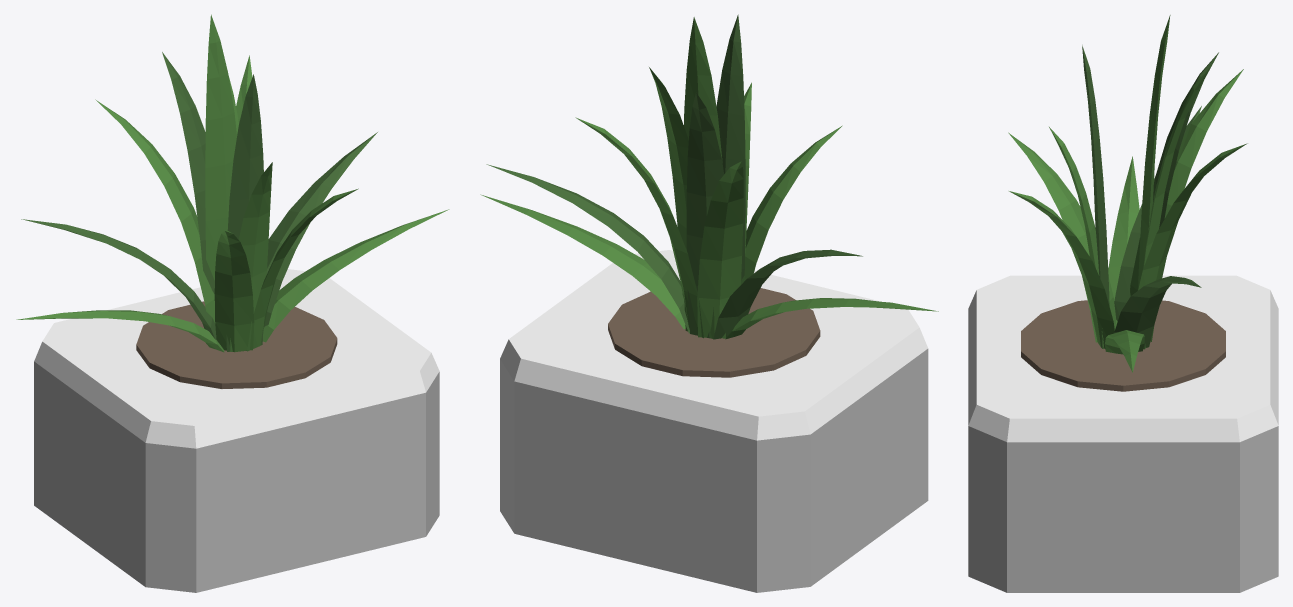
File: vge_faux_plant_a.obj
3 views of the same model, side by side, from view 1: azimuth 30°, elevation 25°; view 2: azimuth 150°, elevation 25°; view 3: azimuth 270°, elevation 25° (orthographic). The views are drawn at different scales.
Parts seen in each view (by area): view 1: vge_faux_plant_a_0, vge_faux_plant_a_1, vge_faux_plant_a_2, vge_faux_plant_a_3, vge_faux_plant_a_13, vge_faux_plant_a_4, vge_faux_plant_a_11, vge_faux_plant_a_8, vge_faux_plant_a_6, vge_faux_plant_a_9, vge_faux_plant_a_15, vge_faux_plant_a_10 (+2 smaller); view 2: vge_faux_plant_a_0, vge_faux_plant_a_1, vge_faux_plant_a_2, vge_faux_plant_a_8, vge_faux_plant_a_6, vge_faux_plant_a_4, vge_faux_plant_a_9, vge_faux_plant_a_11, vge_faux_plant_a_13, vge_faux_plant_a_7, vge_faux_plant_a_5, vge_faux_plant_a_3 (+3 smaller); view 3: vge_faux_plant_a_0, vge_faux_plant_a_1, vge_faux_plant_a_2, vge_faux_plant_a_8, vge_faux_plant_a_14, vge_faux_plant_a_4, vge_faux_plant_a_3, vge_faux_plant_a_13, vge_faux_plant_a_7, vge_faux_plant_a_9, vge_faux_plant_a_12, vge_faux_plant_a_5 (+4 smaller).
Boxes of the visible parts, left/top/right/bottom form: vge_faux_plant_a_0: left=34, top=361, right=439, bottom=592; vge_faux_plant_a_1: left=34, top=269, right=439, bottom=448; vge_faux_plant_a_2: left=136, top=301, right=337, bottom=388; vge_faux_plant_a_3: left=205, top=14, right=236, bottom=280; vge_faux_plant_a_13: left=214, top=230, right=254, bottom=352; vge_faux_plant_a_4: left=226, top=74, right=263, bottom=351; vge_faux_plant_a_11: left=263, top=209, right=449, bottom=342; vge_faux_plant_a_8: left=95, top=99, right=215, bottom=323; vge_faux_plant_a_6: left=162, top=52, right=214, bottom=293; vge_faux_plant_a_9: left=264, top=132, right=377, bottom=326; vge_faux_plant_a_15: left=230, top=162, right=272, bottom=351; vge_faux_plant_a_10: left=21, top=219, right=216, bottom=339; vge_faux_plant_a_0: left=500, top=349, right=928, bottom=592; vge_faux_plant_a_1: left=500, top=250, right=928, bottom=440; vge_faux_plant_a_2: left=608, top=288, right=820, bottom=377; vge_faux_plant_a_8: left=697, top=161, right=743, bottom=337; vge_faux_plant_a_6: left=686, top=92, right=723, bottom=338; vge_faux_plant_a_4: left=716, top=14, right=745, bottom=280; vge_faux_plant_a_9: left=486, top=164, right=689, bottom=333; vge_faux_plant_a_11: left=480, top=194, right=685, bottom=328; vge_faux_plant_a_13: left=741, top=125, right=842, bottom=284; vge_faux_plant_a_7: left=575, top=117, right=703, bottom=338; vge_faux_plant_a_5: left=649, top=67, right=714, bottom=338; vge_faux_plant_a_3: left=683, top=17, right=725, bottom=338; vge_faux_plant_a_0: left=968, top=426, right=1278, bottom=592; vge_faux_plant_a_1: left=968, top=275, right=1278, bottom=442; vge_faux_plant_a_2: left=1021, top=300, right=1225, bottom=391; vge_faux_plant_a_8: left=1130, top=69, right=1243, bottom=341; vge_faux_plant_a_14: left=1009, top=191, right=1114, bottom=348; vge_faux_plant_a_4: left=1082, top=45, right=1109, bottom=348; vge_faux_plant_a_3: left=1138, top=15, right=1170, bottom=349; vge_faux_plant_a_13: left=1008, top=132, right=1116, bottom=342; vge_faux_plant_a_7: left=1138, top=143, right=1247, bottom=290; vge_faux_plant_a_9: left=1114, top=276, right=1201, bottom=348; vge_faux_plant_a_12: left=1108, top=156, right=1139, bottom=328; vge_faux_plant_a_5: left=1143, top=66, right=1211, bottom=268.
Bounding box in the file's own units: 0.9494 × 1 × 0.56.
